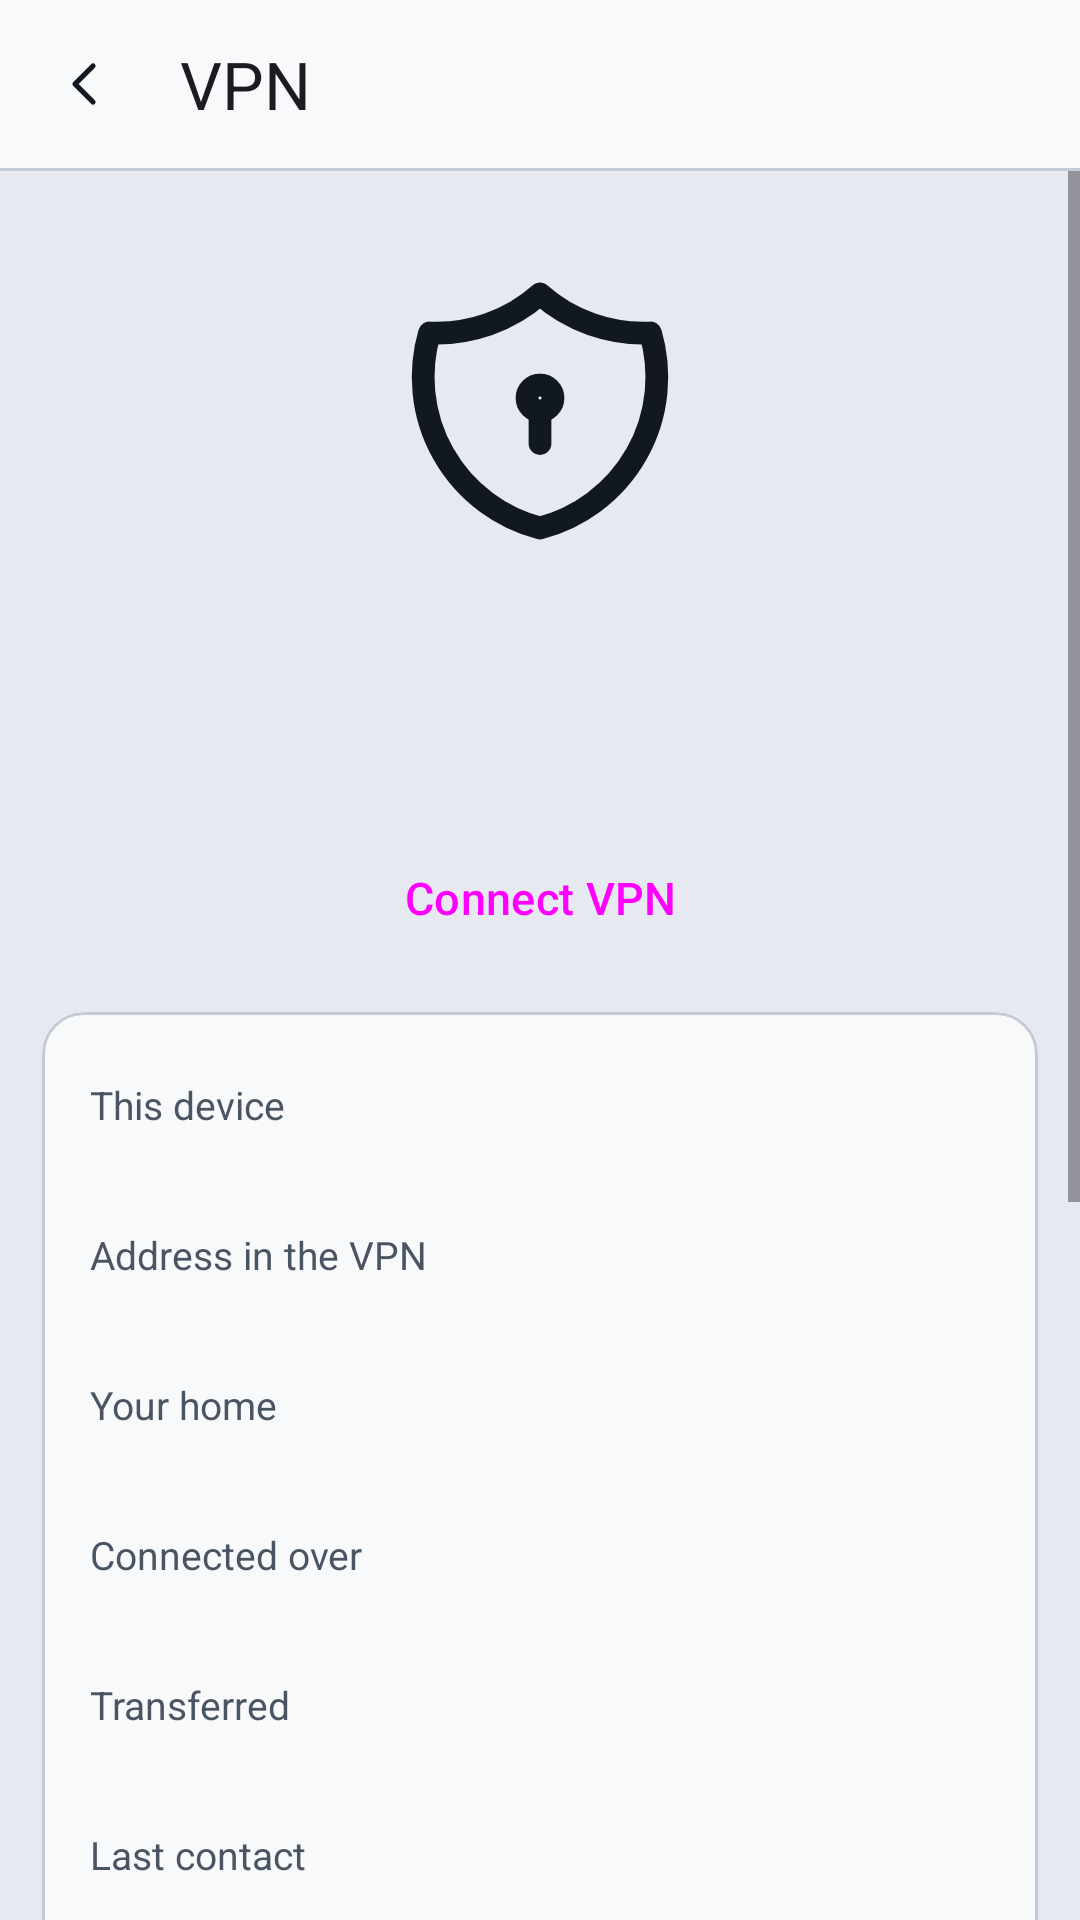

Named icons in this screenshot (1080×1920) and their bounding boxes, bbox=[x1, y1, x2, y2]:
shield lock: bbox=[411, 282, 669, 540]
